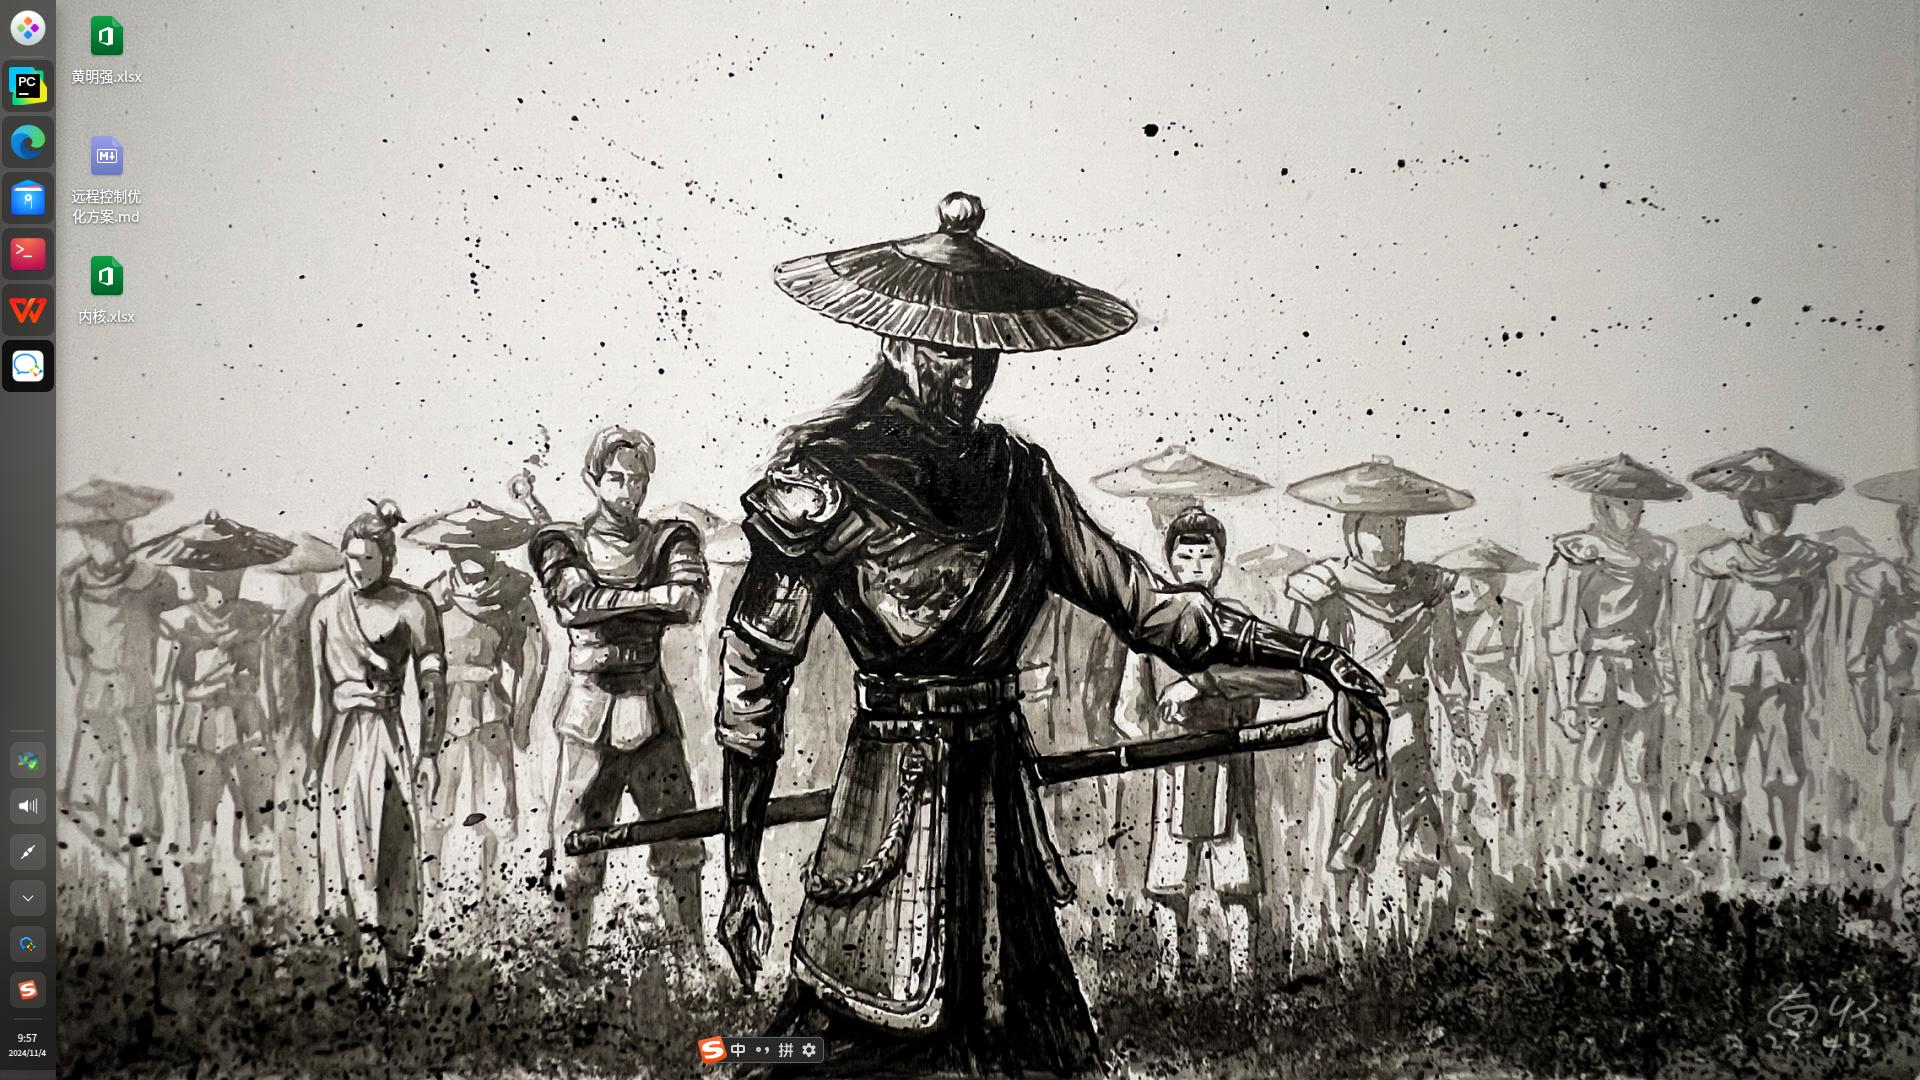dde_file_manager_icon: (11, 177, 47, 219)
dde_launcher_icon: (9, 7, 47, 47)
